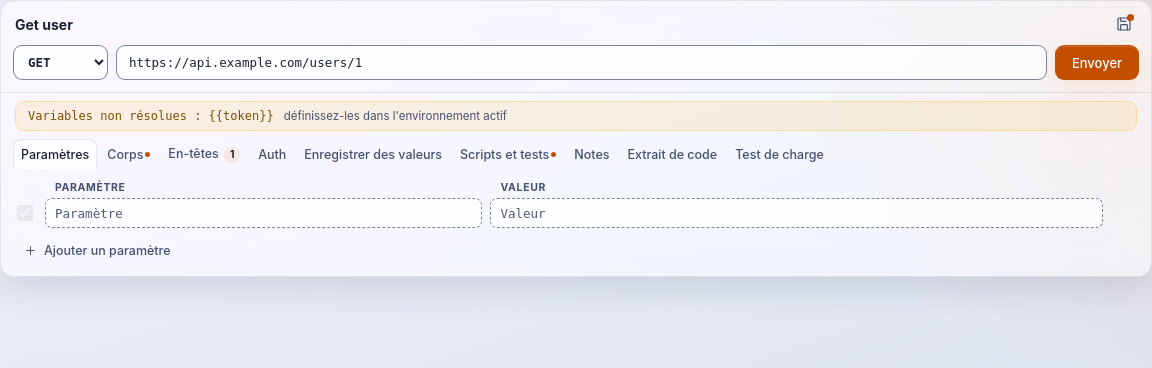
Test case: RequestEditor translations › renders the URL bar, tabs and flags in French
Check: the field named "Nom de la requête" holds "Get user", box [15,14,1103,34]
Check: the button "Envoyer" is shown, box [1055,45,1139,80]
Click the tab named "Corps, json": (129, 154) [99,139,158,169]
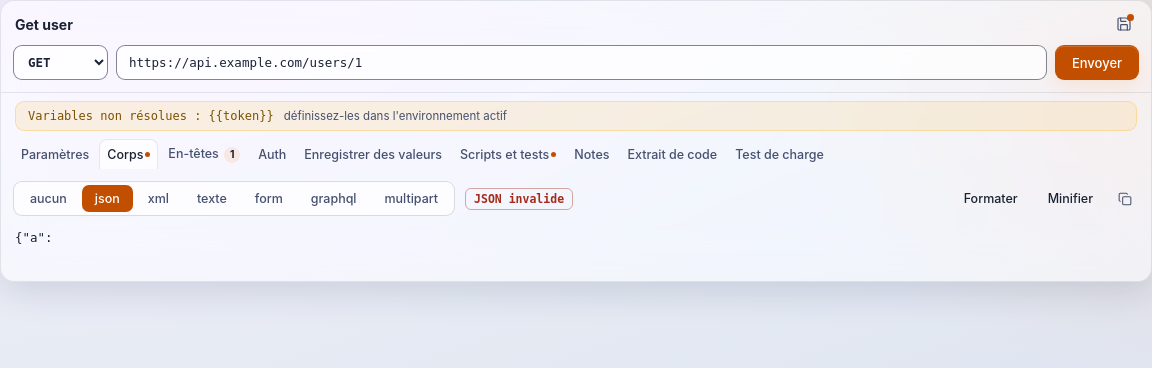
Check: the text "JSON invalide" is shown, box [465,188,573,210]
Check: the button "aucun" is shown, box [17,185,80,212]
